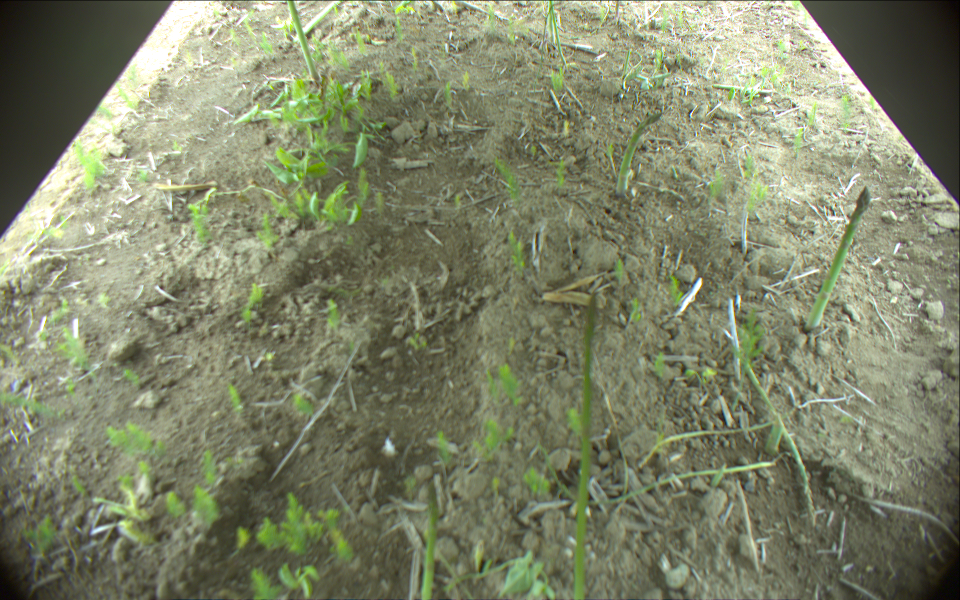aspa: (541, 441, 777, 509), (741, 352, 815, 516), (805, 185, 870, 332), (571, 292, 597, 600), (616, 107, 666, 194), (286, 1, 321, 89), (419, 480, 437, 600), (293, 1, 341, 43), (549, 1, 570, 70), (763, 414, 783, 456), (710, 83, 773, 95), (710, 461, 725, 490), (622, 48, 634, 80), (547, 1, 555, 45), (613, 1, 620, 26)
